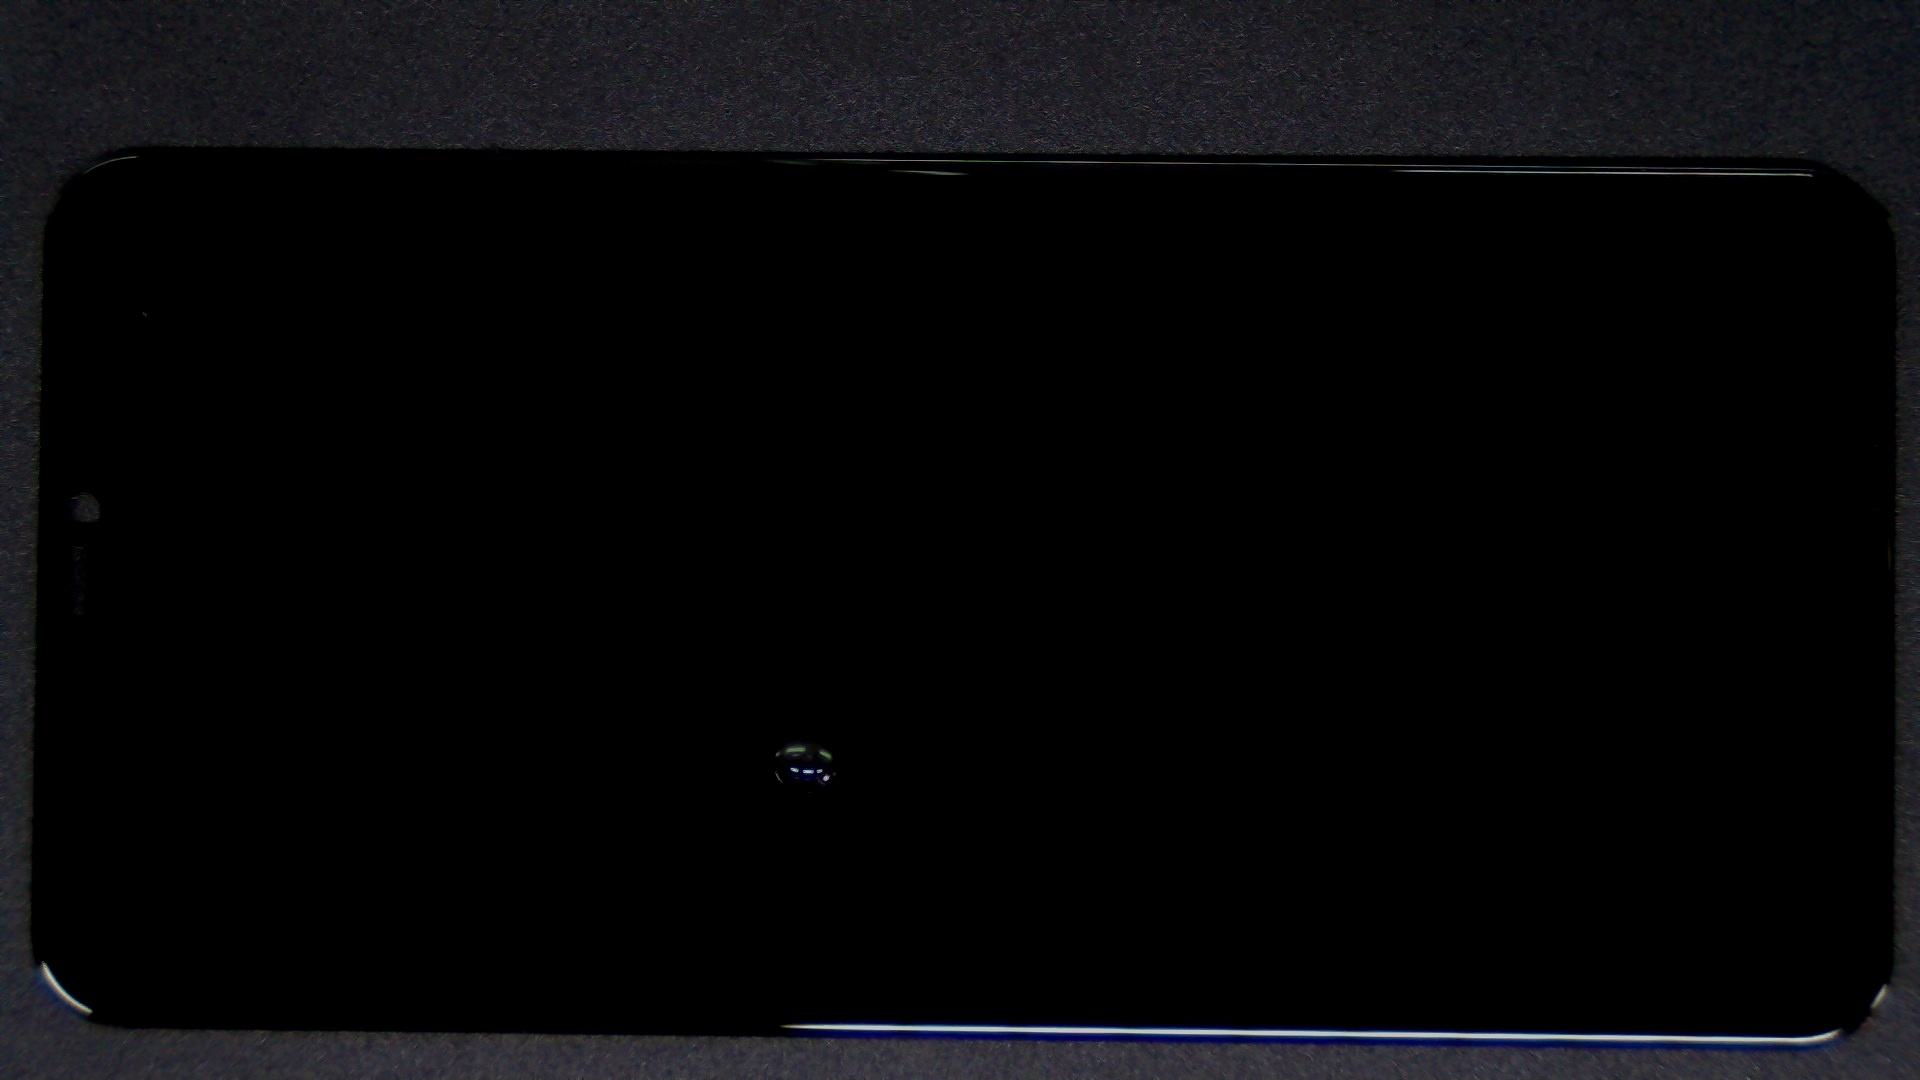oil: (398, 367, 1192, 1080)
